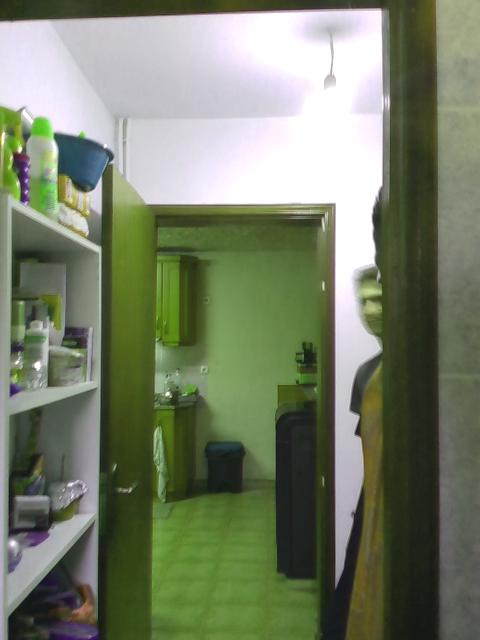open_door: (132, 202, 335, 639)
